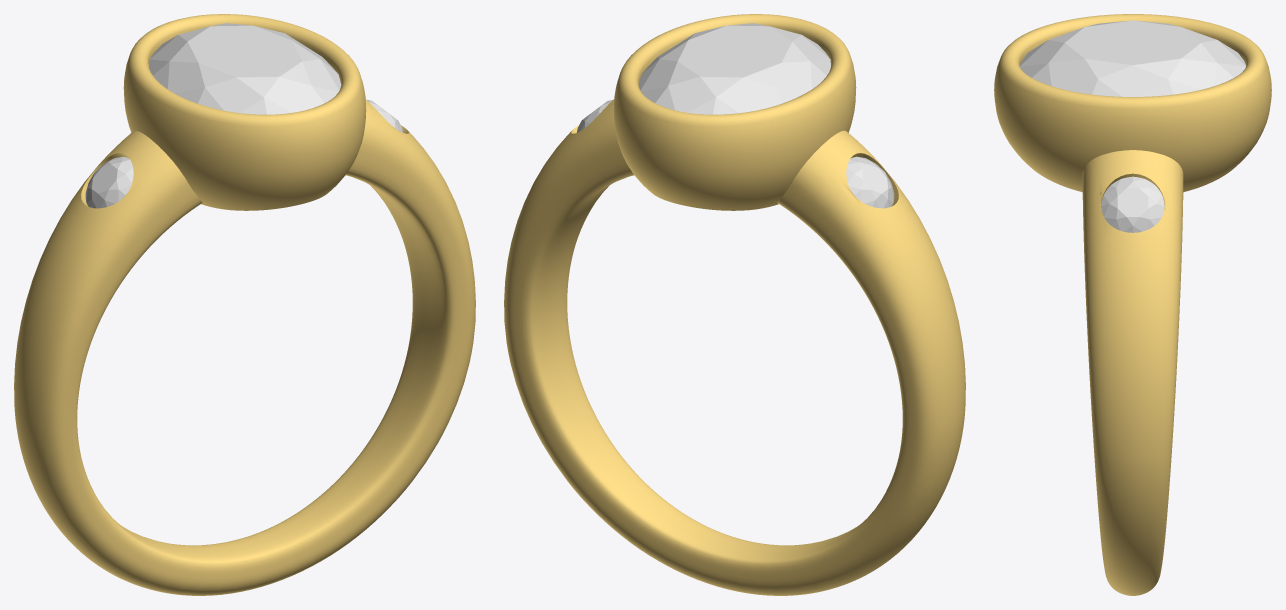
The model's file is SamV1eng_blender.glb.
3 views of the same model, side by side, from view 1: azimuth 30°, elevation 25°; view 2: azimuth 150°, elevation 25°; view 3: azimuth 270°, elevation 25° (orthographic).
Visible parts, largest first — view 1: Sam YG for 3d model, V1 Sam dia for 3d model.002, V1 Sam dia for 3d model.001; view 2: Sam YG for 3d model, V1 Sam dia for 3d model.002, V1 Sam dia for 3d model.001; view 3: Sam YG for 3d model, V1 Sam dia for 3d model.002, V1 Sam dia for 3d model.
Boxes of the visible parts, x1,y1,x2,y2 form: Sam YG for 3d model: (14, 14, 475, 595); V1 Sam dia for 3d model.002: (149, 23, 341, 114); V1 Sam dia for 3d model.001: (85, 156, 133, 208); Sam YG for 3d model: (504, 14, 965, 595); V1 Sam dia for 3d model.002: (638, 23, 830, 114); V1 Sam dia for 3d model.001: (846, 156, 894, 208); Sam YG for 3d model: (994, 14, 1271, 595); V1 Sam dia for 3d model.002: (1020, 20, 1245, 96); V1 Sam dia for 3d model: (1101, 176, 1164, 232).
Size of the model in its own units: 20.09 by 23.13 by 11.
